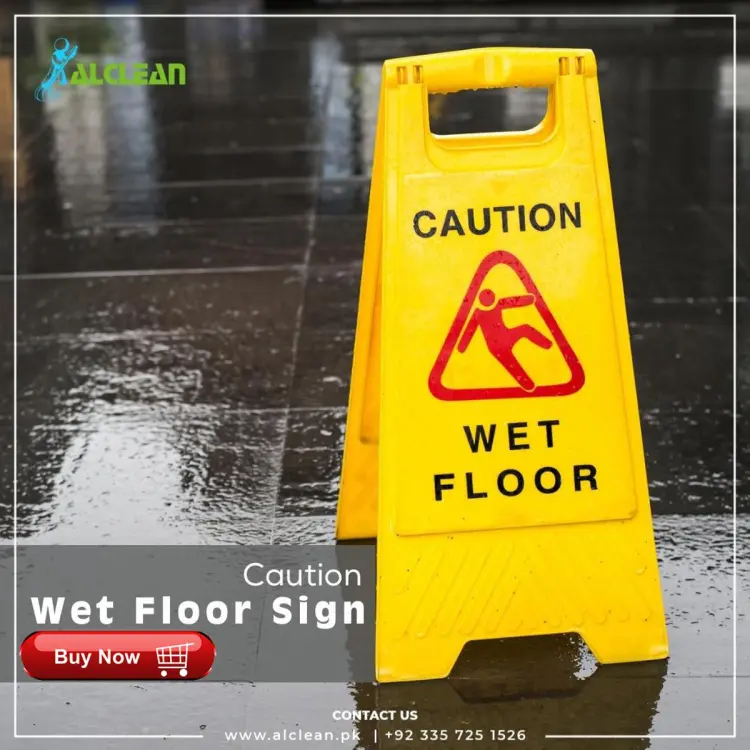wet caution sign: (344, 57, 656, 691)
